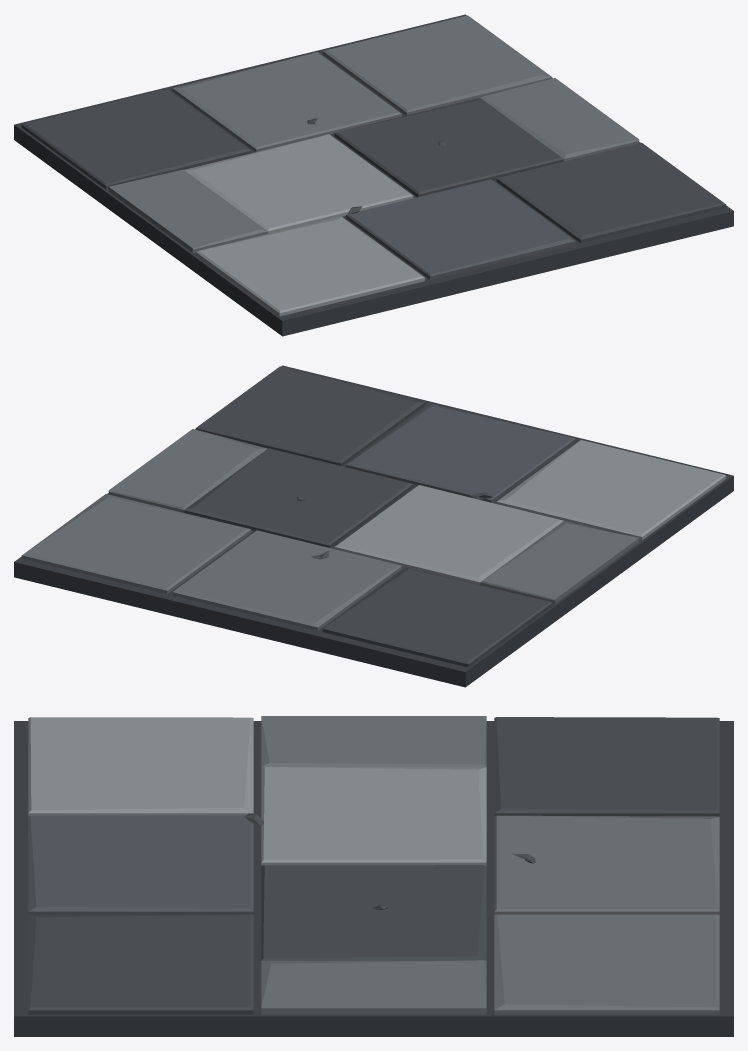
The model's file is mdvl_dungeon_floor_01.glb.
3 views of the same model, one above another, from view 1: azimuth 30°, elevation 25°; view 2: azimuth 150°, elevation 25°; view 3: azimuth 270°, elevation 25° (orthographic). The views are drawn at different scales.
Visible parts, largest first — view 1: mdvl_dungeon_floor_01; view 2: mdvl_dungeon_floor_01; view 3: mdvl_dungeon_floor_01.
Boxes of the visible parts, box(x1,y1,x2,y2) form: mdvl_dungeon_floor_01: box(14, 14, 733, 336); mdvl_dungeon_floor_01: box(14, 365, 733, 687); mdvl_dungeon_floor_01: box(14, 716, 733, 1036).
Size of the model in its own units: 2 by 0.0992 by 2.06.
1 material, 1 textured.
